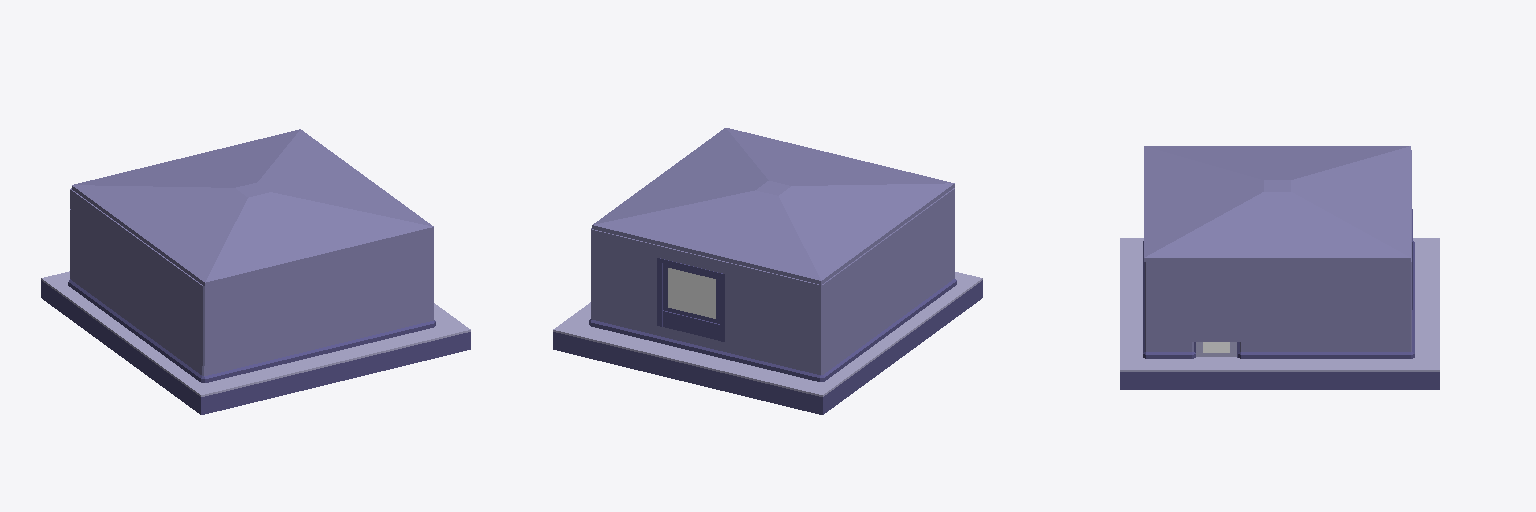
The model's file is roomsep.obj.
3 views of the same model, side by side, from view 1: azimuth 30°, elevation 25°; view 2: azimuth 150°, elevation 25°; view 3: azimuth 270°, elevation 25° (orthographic).
Parts seen in each view (by area): view 1: roof_point, wall, floor, wall_baseWideHigh; view 2: roof_point, wall, floor, window_large, wall_baseWideHigh; view 3: roof_point, wall, floor, wall_baseWideHigh, doorway_doorGlass.
Part boxes in pixels (x1,y1,x2,y2): roof_point: (72, 129, 433, 286); wall: (70, 188, 433, 365); floor: (41, 271, 470, 414); wall_baseWideHigh: (68, 269, 435, 382); roof_point: (592, 128, 954, 284); wall: (591, 188, 954, 364); floor: (553, 272, 982, 414); window_large: (641, 241, 741, 345); wall_baseWideHigh: (589, 269, 956, 381); roof_point: (1144, 146, 1410, 261); wall: (1145, 150, 1411, 341); floor: (1120, 238, 1439, 389); wall_baseWideHigh: (1143, 241, 1414, 358); doorway_doorGlass: (1194, 342, 1239, 357).
Size of the model in its own units: 14.11 by 6.8 by 14.52.